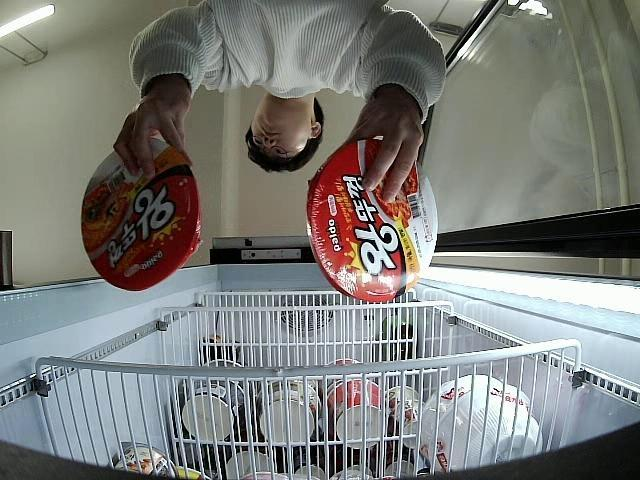10_wangTtukkeong: (306, 132, 439, 300), (82, 140, 204, 292)
